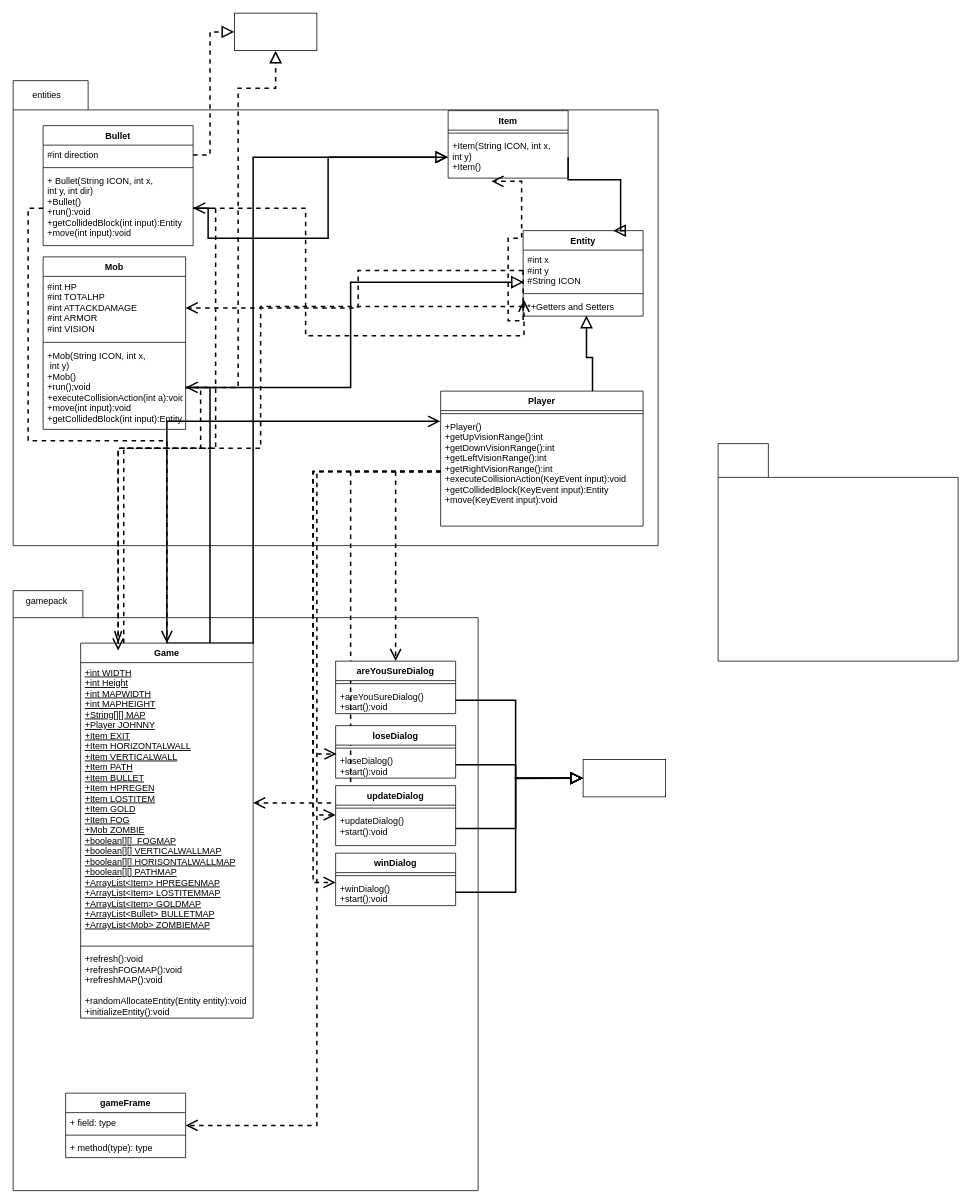
Some shapes in this 971 by 1204 pixel diagram are drawn without their labels. Here are the shapes that lost their labels. From the top down, the centre of each, then its label:
At (x=275, y=31): "«interface» Runnable".
At (x=837, y=552): "maze".
At (x=624, y=778): "javax.swing.JDialog".
